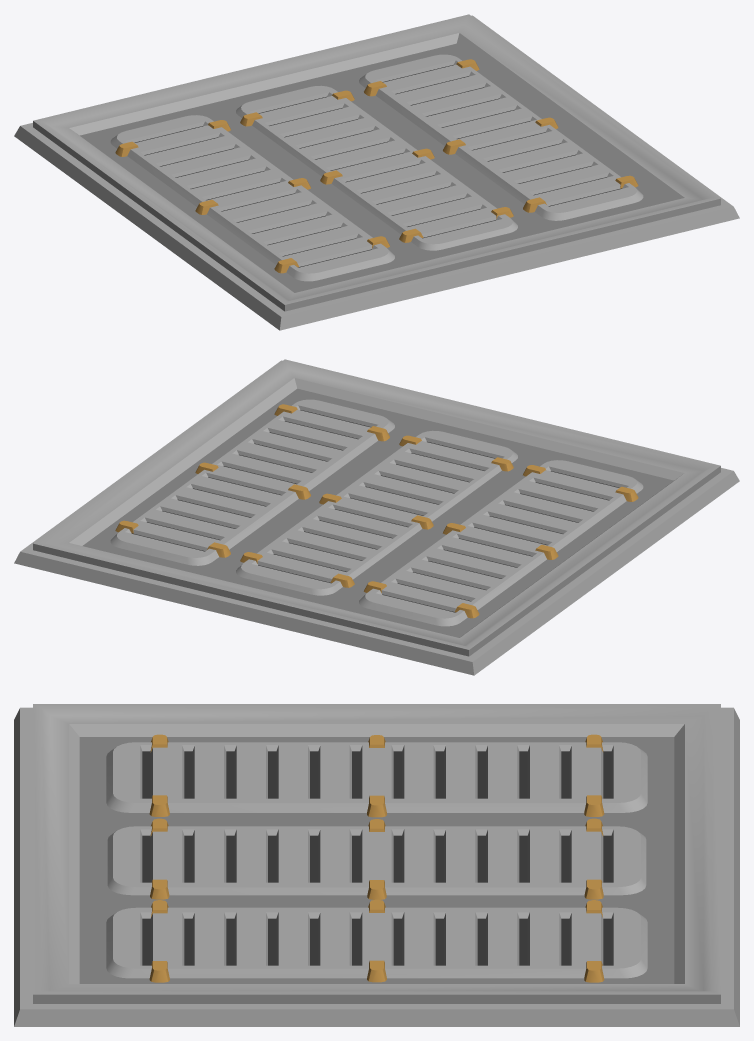
Rendered from RoofTile_Vents.glb.
The picture shows the model from 3 angles, top to bottom: view 1: azimuth 30°, elevation 25°; view 2: azimuth 150°, elevation 25°; view 3: azimuth 270°, elevation 25°; orthographic projection. The views are drawn at different scales.
Visible parts, largest first — view 1: RoofTile_Vents; view 2: RoofTile_Vents; view 3: RoofTile_Vents.
Part boxes in pixels (left/top/right/bottom): RoofTile_Vents: left=14, top=14, right=739, bottom=330; RoofTile_Vents: left=14, top=359, right=739, bottom=675; RoofTile_Vents: left=14, top=704, right=739, bottom=1026.
Bounding box in the file's own units: 2 × 0.0774 × 2.
